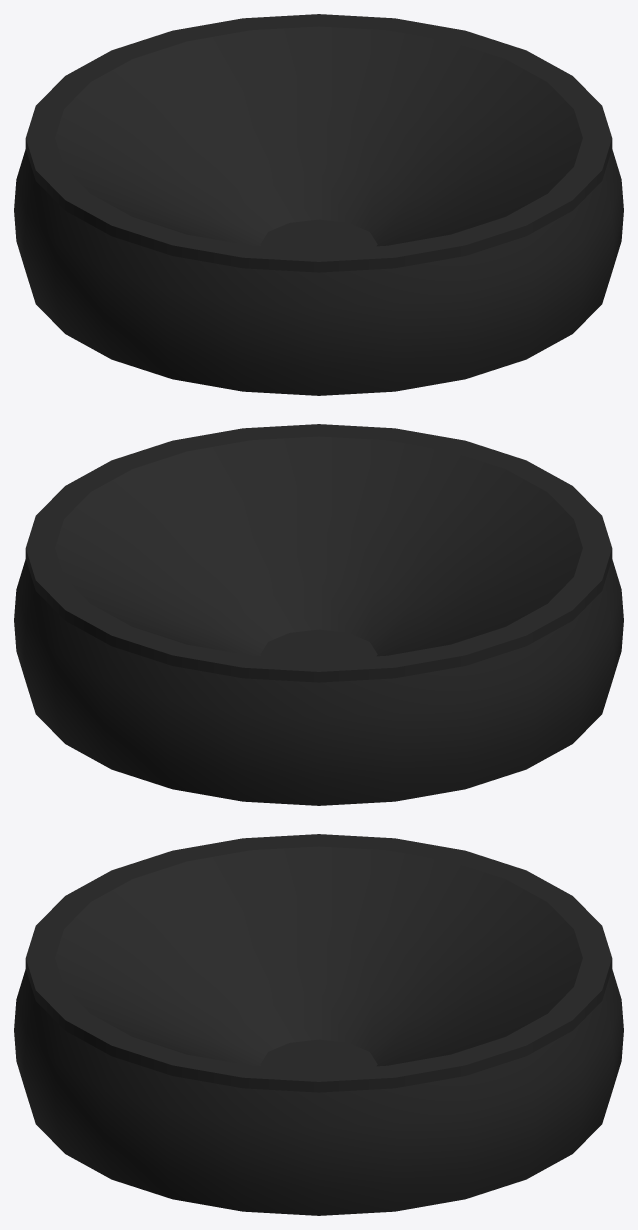
The model's file is Tantares_Port_2.obj.
The picture shows the model from 3 angles, top to bottom: view 1: azimuth 30°, elevation 25°; view 2: azimuth 150°, elevation 25°; view 3: azimuth 270°, elevation 25°; orthographic projection.
Parts seen in each view (by area): view 1: Tantares_Port_2; view 2: Tantares_Port_2; view 3: Tantares_Port_2.
Boxes of the visible parts, left/top/right/bottom form: Tantares_Port_2: left=14, top=14, right=623, bottom=395; Tantares_Port_2: left=14, top=424, right=623, bottom=805; Tantares_Port_2: left=14, top=834, right=623, bottom=1215.
Bounding box in the file's own units: 0.65 × 0.1575 × 0.65.
